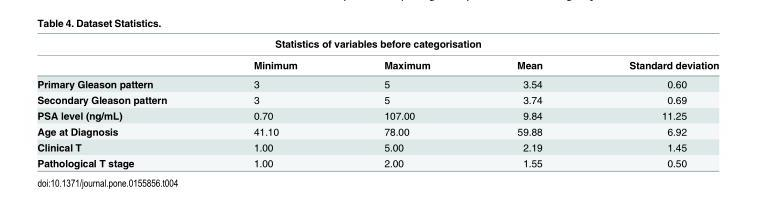table: (36, 37, 718, 168)
table column: (36, 37, 209, 168), (585, 37, 718, 168), (340, 37, 472, 168), (209, 37, 340, 168), (472, 37, 585, 168)
table column header: (36, 37, 718, 74)
table row: (36, 53, 718, 74), (36, 74, 718, 91), (36, 37, 718, 53), (36, 91, 718, 107), (36, 107, 718, 123), (36, 138, 718, 154), (36, 123, 718, 138), (36, 154, 718, 168)
table spanning cell: (36, 37, 718, 53)
